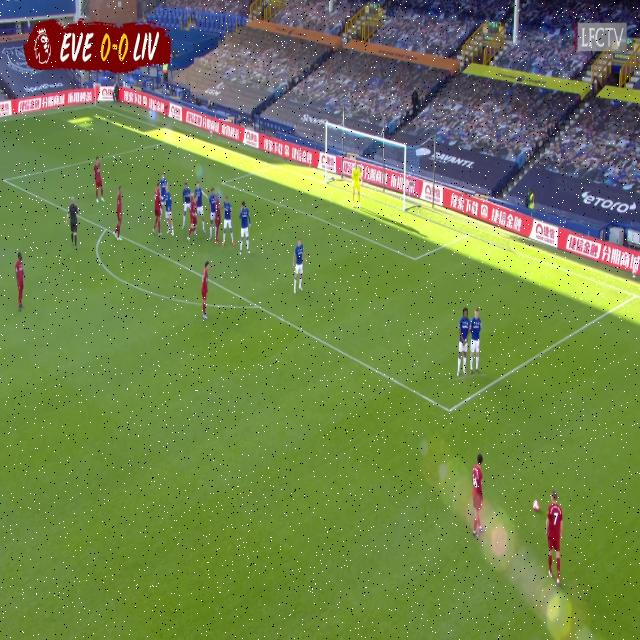Ball: (532, 492, 540, 515)
GoalKeeper: (350, 161, 366, 214)
TEAM 1: (544, 494, 564, 586), (470, 454, 487, 538), (115, 183, 127, 248), (14, 252, 26, 313), (199, 260, 211, 320), (153, 176, 163, 238), (187, 195, 198, 242), (94, 158, 104, 201), (215, 192, 221, 248)
TEAM 2: (459, 300, 472, 379), (469, 308, 484, 370), (164, 184, 178, 238), (293, 239, 306, 296), (195, 176, 208, 233), (220, 198, 234, 250), (239, 200, 251, 257), (208, 176, 216, 243), (182, 176, 191, 227), (160, 171, 166, 207)
